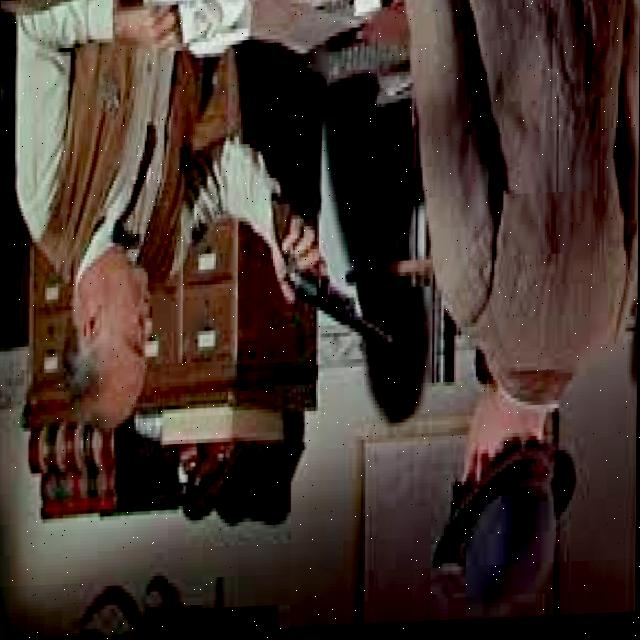pistol: (269, 188, 395, 361)
